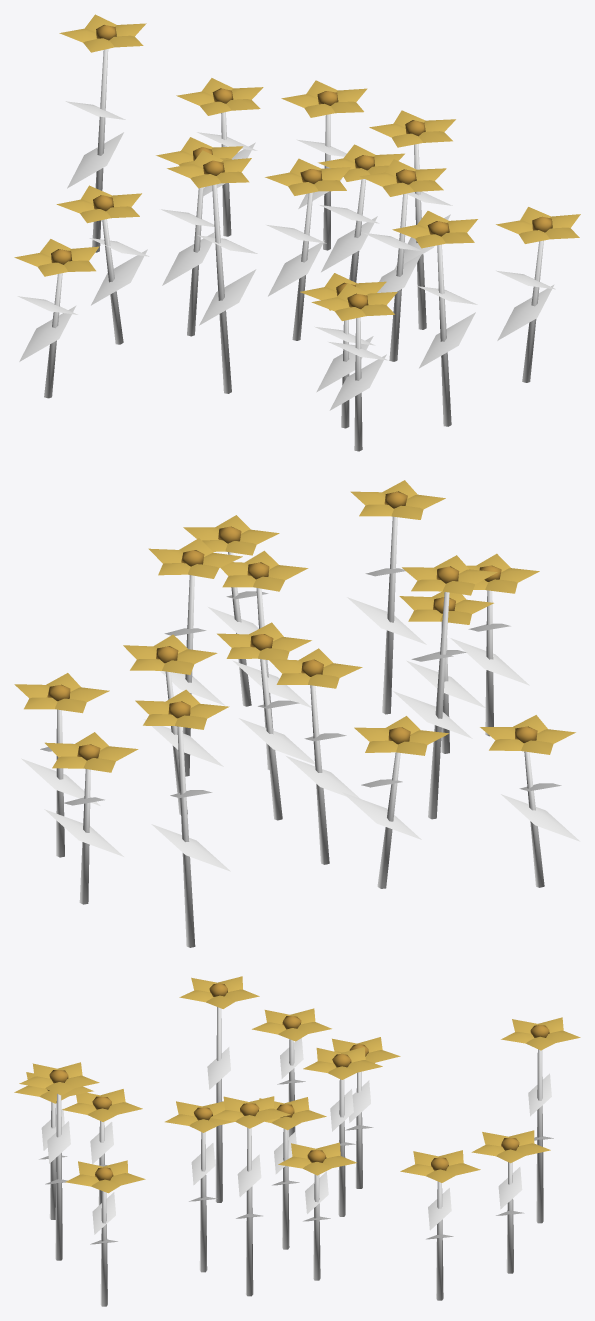
The model's file is SM_DF_Flowers_1.fbx.
3 renders of one model, top to bottom at view 1: azimuth 30°, elevation 25°; view 2: azimuth 150°, elevation 25°; view 3: azimuth 270°, elevation 25°, orthographic. The views are drawn at different scales.
Parts seen in each view (by area): view 1: SM_DF_Flowers_1; view 2: SM_DF_Flowers_1; view 3: SM_DF_Flowers_1.
Boxes of the visible parts, bbox=[...] form: SM_DF_Flowers_1: bbox=[14, 14, 580, 451]; SM_DF_Flowers_1: bbox=[14, 480, 580, 947]; SM_DF_Flowers_1: bbox=[14, 976, 580, 1306].
Bounding box in the file's own units: 111 × 130 × 53.74.
